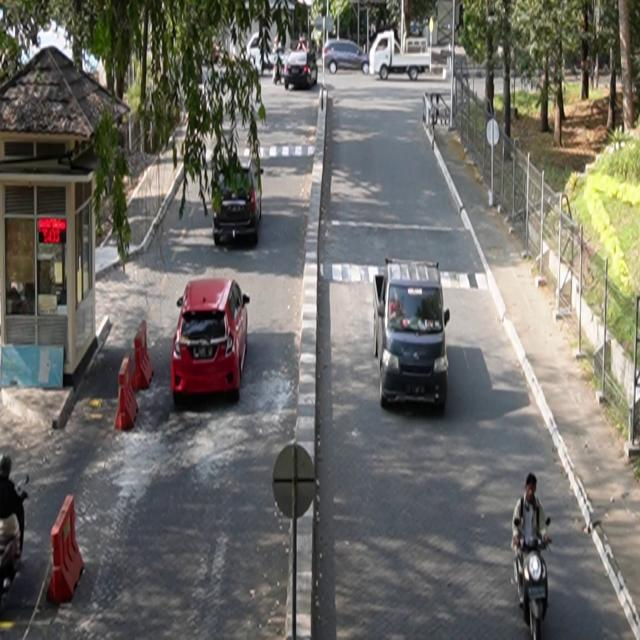car: (374, 258, 452, 411), (172, 278, 251, 404), (212, 154, 264, 247), (323, 40, 370, 76), (285, 50, 319, 91)
truck: (370, 31, 433, 82)
